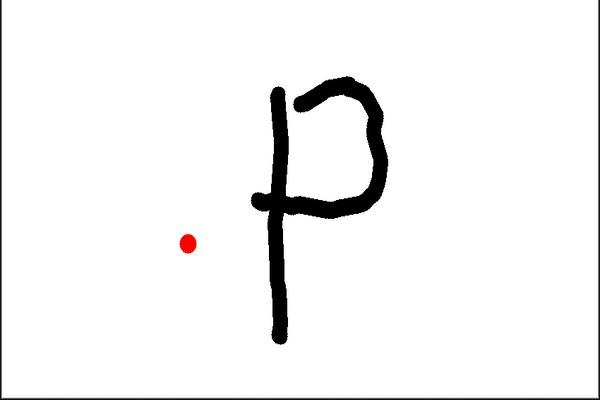P: (241, 74, 410, 357)
